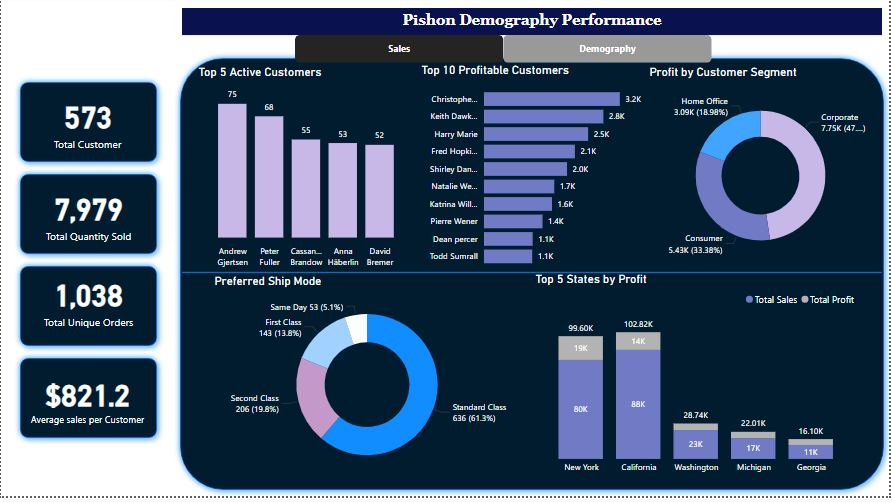

The dashboard page shown, as its layout file describes it:
{"tool":"powerbi","page":{"name":"Demography","canvas":[1280,720],"ordinal":1},"visuals":[{"type":"shape","box":[249.1,80.6,1031,639.4],"z":0},{"type":"shape","box":[18.7,115.6,214.6,132.5],"z":1000},{"type":"shape","box":[18.7,248.1,214.6,132.5],"z":2000},{"type":"shape","box":[18.7,380.6,214.6,132.5],"z":3000},{"type":"shape","box":[18.7,512.6,214.6,132.5],"z":4000},{"type":"shape","box":[260.6,247.7,1008,301],"z":5000},{"type":"card","fields":{"Values":["Business perf claculation table.Total Customer"]},"box":[30.2,123.8,188.6,115.2],"z":6000},{"type":"card","fields":{"Values":["Business perf claculation table.Total Quantity Sold"]},"box":[31.7,256.3,188.6,115.2],"z":7000},{"type":"card","fields":{"Values":["Business perf claculation table.Total Unique Orders"]},"box":[31.7,380.2,188.6,115.2],"z":8000},{"type":"card","fields":{"Values":["Business perf claculation table.Average sales per Customer"]},"box":[30.2,521.3,188.6,115.2],"z":9000},{"type":"clusteredColumnChart","title":"Top 5 Active Customers","fields":{"Category":["Customer_dim.Customer Name"],"Y":["Business perf claculation table.Total Quantity Sold"]},"box":[279.4,99.4,313.9,299.5],"z":10000},{"type":"clusteredBarChart","title":"Top 10 Profitable Customers","fields":{"Y":["Business perf claculation table.Total Profit"],"Category":["Customer_dim.Customer Name"]},"box":[600.5,96.5,328.3,303.8],"z":11000},{"type":"donutChart","title":"Profit by Customer Segment","fields":{"Y":["Business perf claculation table.Total Profit"],"Category":["Customer_dim.Segment"]},"box":[928.8,99.4,329.8,299.5],"z":12000},{"type":"textbox","box":[260.6,17.3,1008,38.9],"z":13000},{"type":"donutChart","title":"Preferred Ship Mode","fields":{"Y":["Business perf claculation table.Total Unique Orders"],"Category":["Order_dim.Ship Mode"]},"box":[302.4,400.3,449.3,299.5],"z":14000},{"type":"columnChart","title":"Top 5 States by Profit","fields":{"Category":["Location_dim.State"],"Y":["Business perf claculation table.Total Sales","Business perf claculation table.Total Profit"]},"box":[764.6,397.4,473.8,299.5],"z":15000},{"type":"bookmarkNavigator","box":[423.4,56.2,600.5,40.3],"z":16000}]}

Visuals, with their boxes in screenshot pixels (x1, y1, x2, y2), scaled from the page's 1280x720 canvas onto the 892x503 screenshot:
shape: BBox(174, 56, 891, 502)
shape: BBox(13, 81, 163, 173)
shape: BBox(13, 173, 163, 266)
shape: BBox(13, 266, 163, 358)
shape: BBox(13, 358, 163, 451)
shape: BBox(182, 173, 884, 383)
card - Business perf claculation table.Total Customer: BBox(21, 86, 152, 167)
card - Business perf claculation table.Total Quantity Sold: BBox(22, 179, 154, 260)
card - Business perf claculation table.Total Unique Orders: BBox(22, 266, 154, 346)
card - Business perf claculation table.Average sales per Customer: BBox(21, 364, 152, 445)
"Top 5 Active Customers" clusteredColumnChart: BBox(195, 69, 413, 279)
"Top 10 Profitable Customers" clusteredBarChart: BBox(418, 67, 647, 280)
"Profit by Customer Segment" donutChart: BBox(647, 69, 877, 279)
textbox: BBox(182, 12, 884, 39)
"Preferred Ship Mode" donutChart: BBox(211, 280, 524, 489)
"Top 5 States by Profit" columnChart: BBox(533, 278, 863, 487)
bookmarkNavigator: BBox(295, 39, 714, 67)
